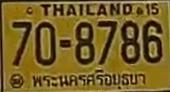0: (35, 21, 55, 65)
6: (142, 19, 162, 62)
7: (12, 21, 31, 65), (97, 20, 116, 64)
8: (120, 20, 139, 62), (75, 22, 94, 63)
AYA: (30, 69, 148, 90)
